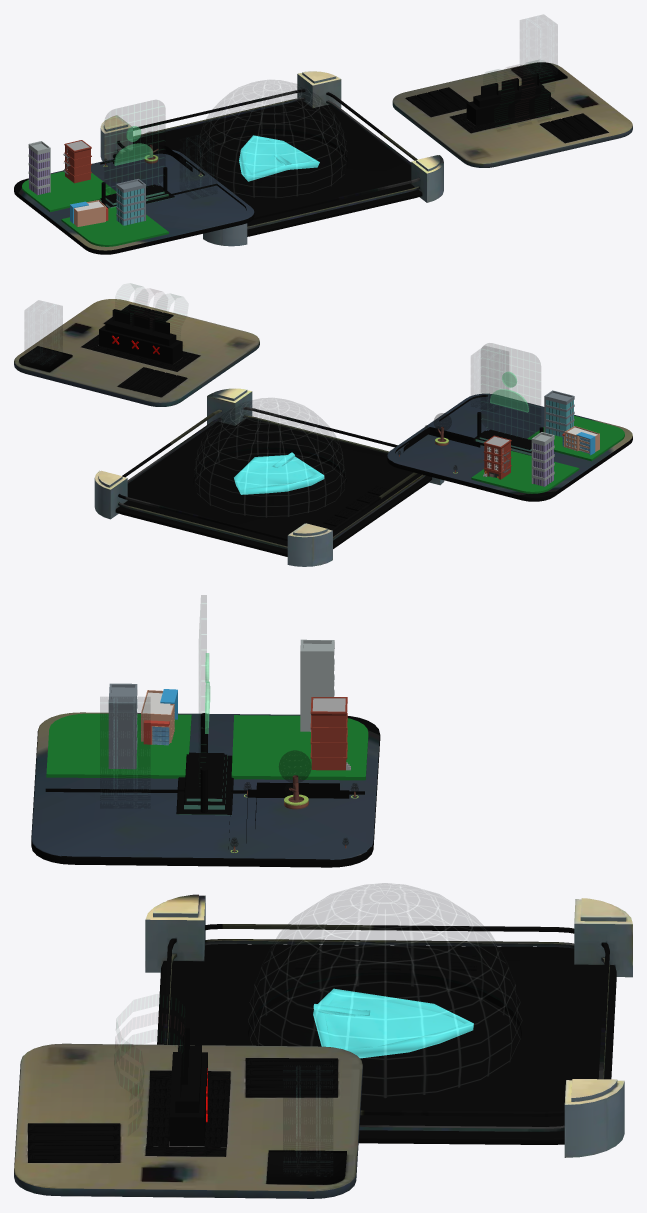
3 views of the same model, one above another, from view 1: azimuth 30°, elevation 25°; view 2: azimuth 150°, elevation 25°; view 3: azimuth 270°, elevation 25° (orthographic). The views are drawn at different scales.
Visible parts, largest first — view 1: base plain.013, base plain.003, base plain.015, Sphere, base plain.014, base plain.016, Plane.094, base plain.019, base plain.017, Escudo_High.001_EscudoPrincipal_Scarlet_0.001, Cube.001, Cube (+9 smaller); view 2: base plain.013, base plain.003, base plain.015, Sphere, base plain.014, base plain.016, Plane.094, base plain.017, base plain.019, Escudo_High.001_EscudoPrincipal_Scarlet_0.001, Cube, Cube.001 (+10 smaller); view 3: base plain.013, base plain.003, base plain.015, Sphere, base plain.014, base plain.019, base plain.016, base plain.017, Escudo_High.001_EscudoPrincipal_Scarlet_0.001, Cube, Cube.001, Cube.068 (+9 smaller).
Boxes of the visible parts, x1=… form: base plain.013: x1=113, y1=100, x2=422, y2=236; base plain.003: x1=392, y1=62, x2=632, y2=167; base plain.015: x1=14, y1=150, x2=254, y2=254; Sphere: x1=197, y1=80, x2=346, y2=164; base plain.014: x1=405, y1=62, x2=608, y2=143; base plain.016: x1=100, y1=71, x2=443, y2=246; Plane.094: x1=105, y1=100, x2=164, y2=194; base plain.019: x1=22, y1=171, x2=168, y2=246; base plain.017: x1=117, y1=89, x2=419, y2=229; Escudo_High.001_EscudoPrincipal_Scarlet_0.001: x1=239, y1=135, x2=319, y2=181; Cube.001: x1=180, y1=134, x2=216, y2=198; Cube: x1=520, y1=15, x2=557, y2=78; base plain.013: x1=115, y1=418, x2=431, y2=556; base plain.003: x1=14, y1=299, x2=259, y2=406; base plain.015: x1=387, y1=393, x2=632, y2=501; Sphere: x1=194, y1=398, x2=345, y2=487; base plain.014: x1=19, y1=304, x2=200, y2=397; base plain.016: x1=94, y1=388, x2=444, y2=566; Plane.094: x1=481, y1=343, x2=540, y2=439; base plain.017: x1=118, y1=407, x2=425, y2=549; base plain.019: x1=471, y1=415, x2=624, y2=493; Escudo_High.001_EscudoPrincipal_Scarlet_0.001: x1=234, y1=452, x2=324, y2=494; Cube: x1=25, y1=300, x2=62, y2=366; Cube.001: x1=471, y1=346, x2=508, y2=411; base plain.013: x1=157, y1=944, x2=616, y2=1144; base plain.003: x1=14, y1=1043, x2=362, y2=1198; base plain.015: x1=31, y1=712, x2=380, y2=867; Sphere: x1=248, y1=883, x2=521, y2=1039; base plain.014: x1=28, y1=1045, x2=346, y2=1184; base plain.019: x1=46, y1=713, x2=368, y2=780; base plain.016: x1=145, y1=894, x2=632, y2=1157; base plain.017: x1=162, y1=924, x2=609, y2=1131; Escudo_High.001_EscudoPrincipal_Scarlet_0.001: x1=313, y1=988, x2=473, y2=1058; Cube: x1=283, y1=1065, x2=332, y2=1175; Cube.001: x1=100, y1=697, x2=149, y2=807; Cube.068: x1=176, y1=713, x2=233, y2=1097.
Bounding box in the file's own units: 0.4294 × 0.1149 × 0.2356.
Materials: 37 (15 with a texture image).
